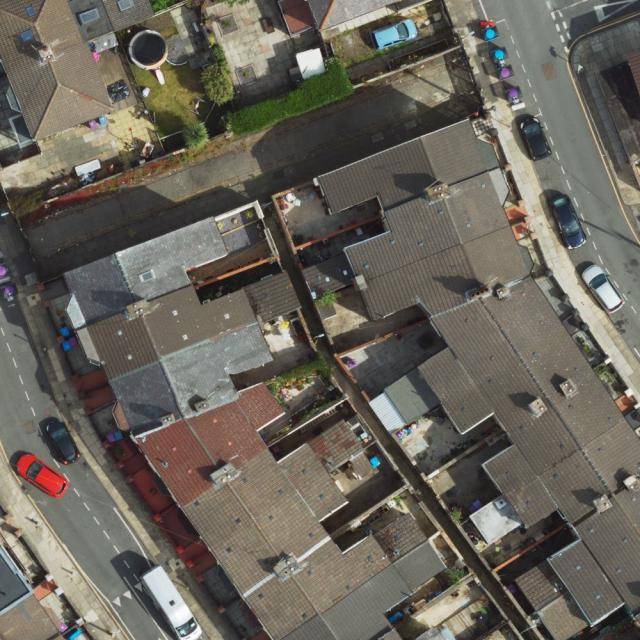roof: (299, 120, 640, 640), (61, 215, 447, 640), (0, 0, 156, 138), (0, 546, 66, 639), (281, 1, 403, 39), (630, 53, 640, 100)
skylight: (77, 4, 104, 28), (136, 266, 159, 286), (15, 29, 36, 44), (116, 0, 137, 14), (25, 3, 37, 18)
